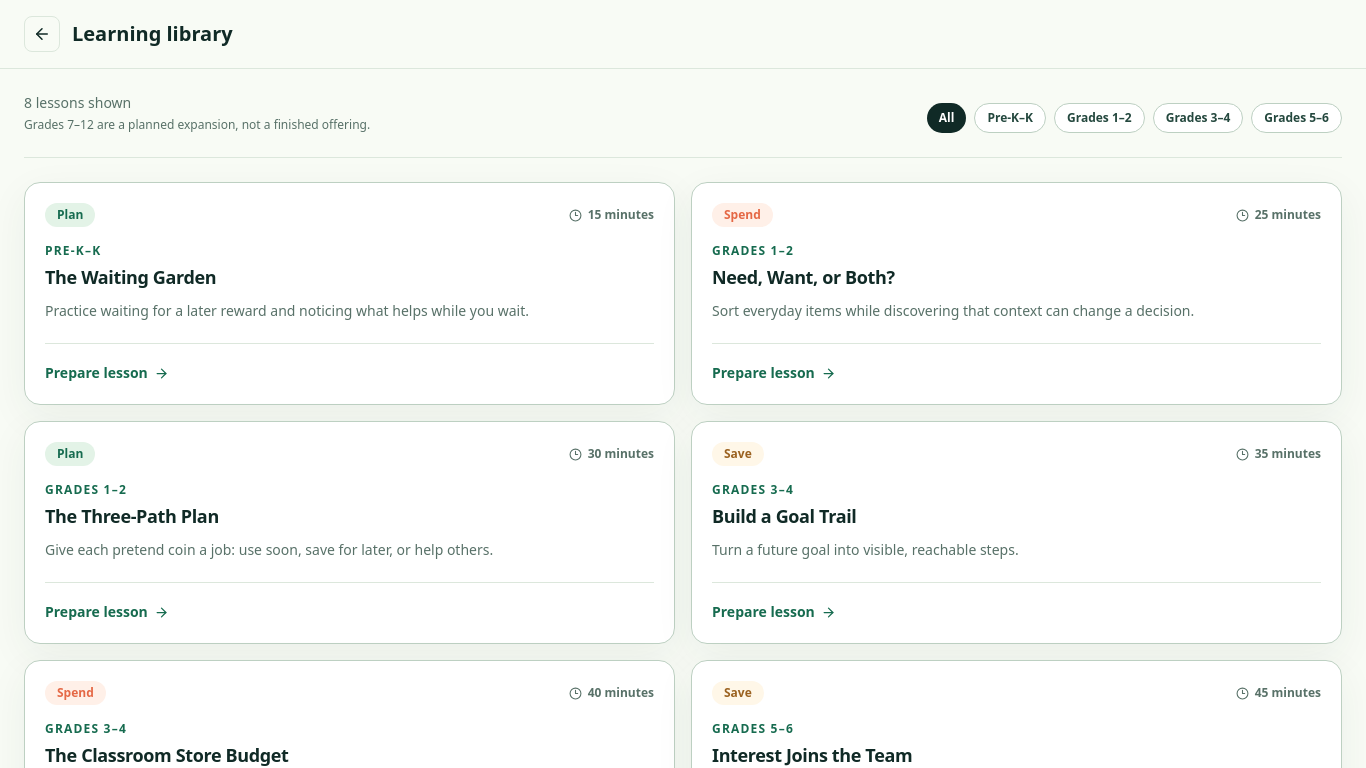
LearnListPage › filters lessons by grade band
The width and height of the screenshot is (1366, 768).
Expected: the text "8 lessons shown" is shown, left=24, top=93, right=131, bottom=112
Step 1. Click the button "Pre-K–K" → click(1010, 118), box left=974, top=103, right=1046, bottom=133
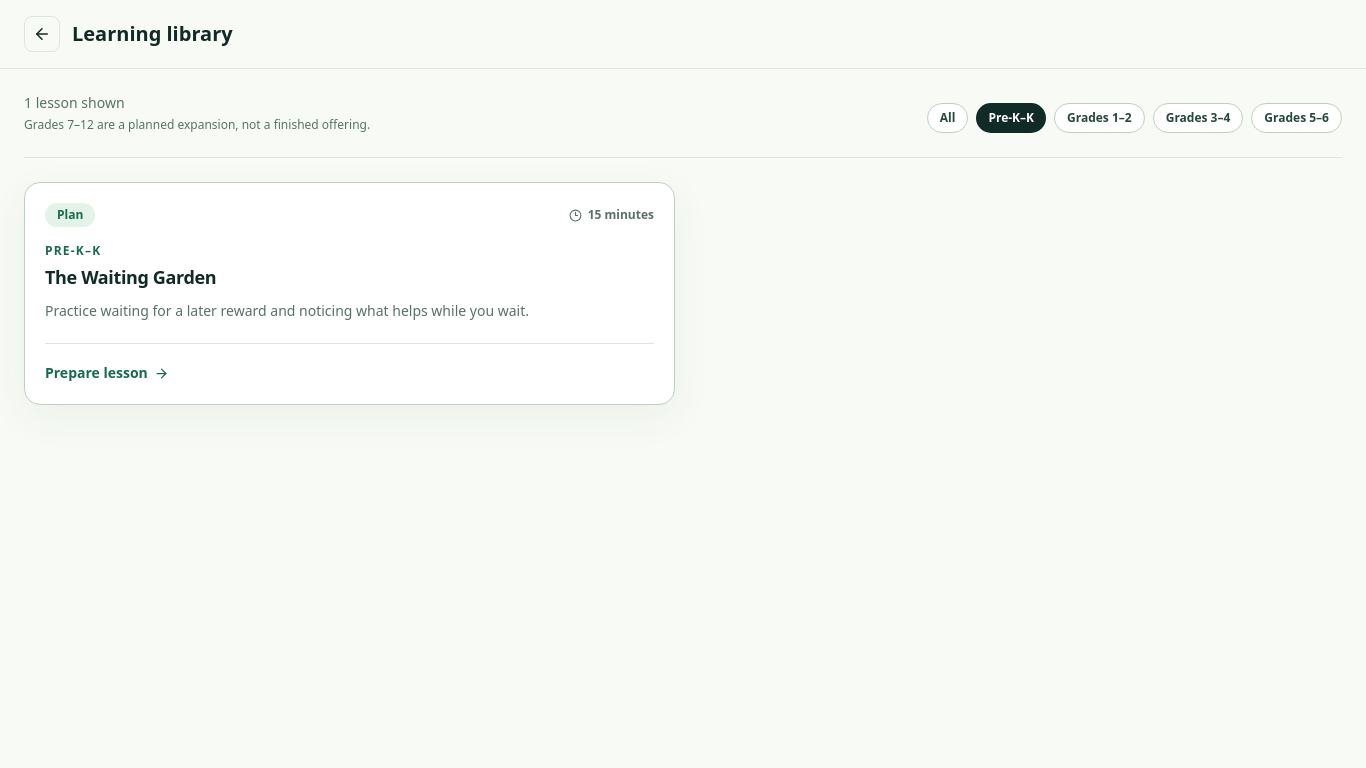
Expected: the heading "The Waiting Garden" is shown, left=45, top=265, right=216, bottom=289
Now the text "1 lesson shown" is shown, box left=24, top=93, right=125, bottom=112
